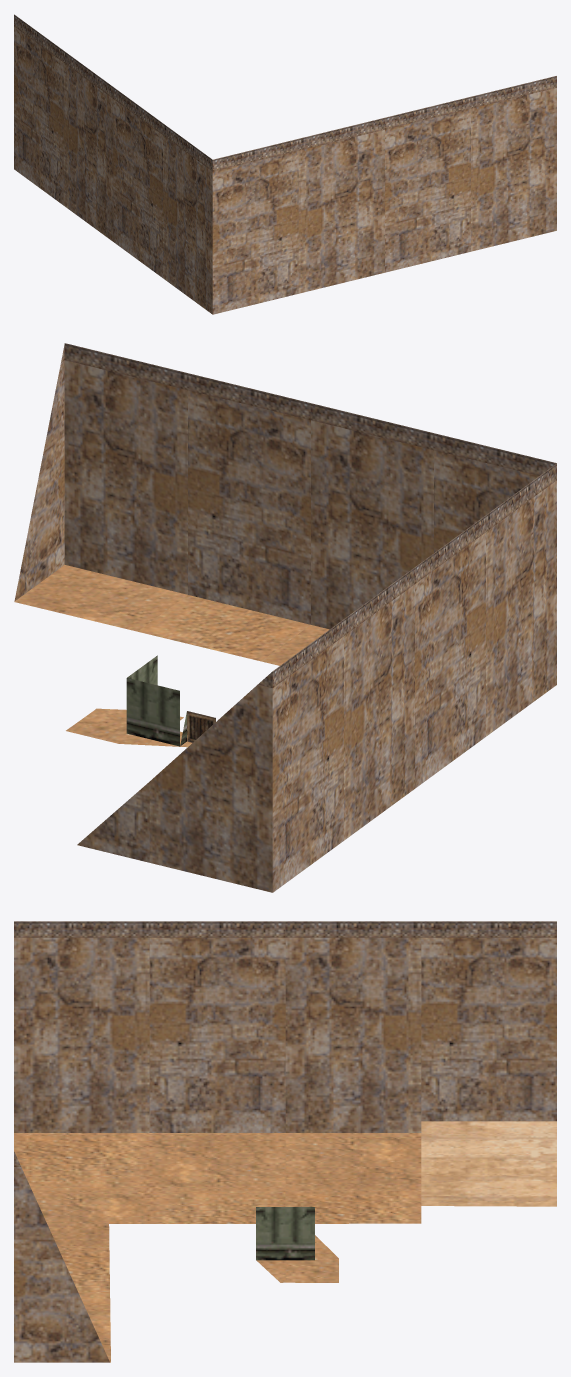
The model's file is tutorialMapShadowed.fbx.
3 renders of one model, top to bottom at view 1: azimuth 30°, elevation 25°; view 2: azimuth 150°, elevation 25°; view 3: azimuth 270°, elevation 25°, orthographic. The views are drawn at different scales.
Parts seen in each view (by area): view 1: Shadowed; view 2: Shadowed; view 3: Shadowed.
Part boxes in pixels (<box>): Shadowed: <box>14,14,556,314</box>; Shadowed: <box>14,343,556,892</box>; Shadowed: <box>14,921,556,1362</box>.
Size of the model in its own units: 45.35 by 19.52 by 45.35.
Materials: 2 (2 with a texture image).
